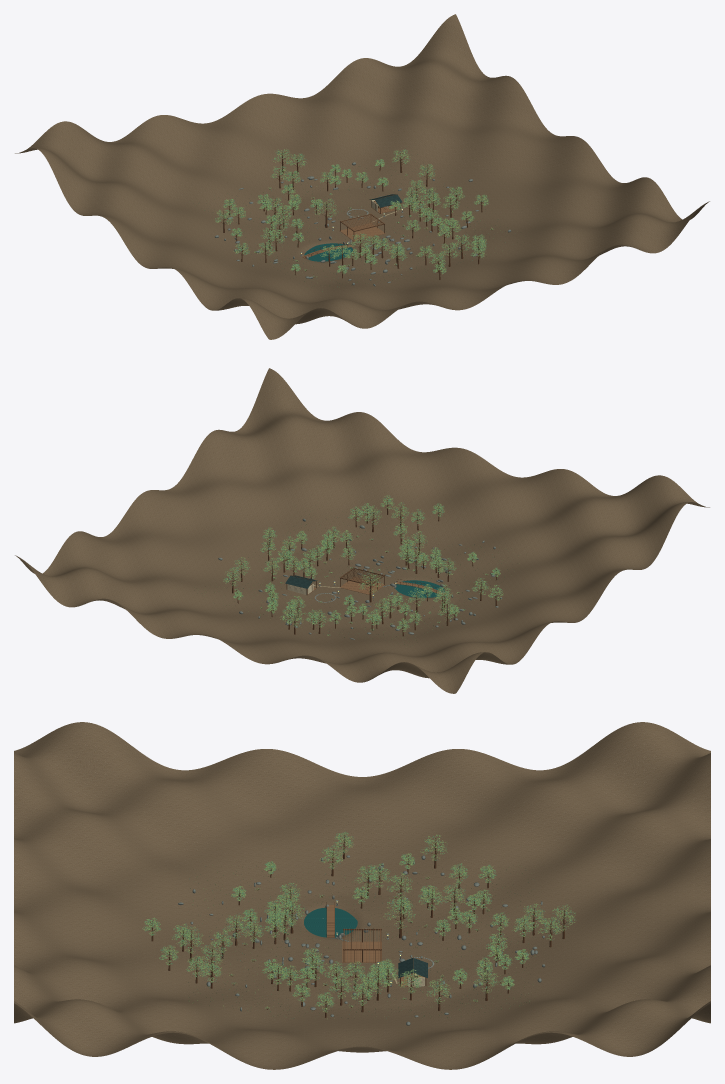
Rendered from garden-high.glb.
The picture shows the model from 3 angles, top to bottom: view 1: azimuth 30°, elevation 25°; view 2: azimuth 150°, elevation 25°; view 3: azimuth 270°, elevation 25°; orthographic projection. The views are drawn at different scales.
Parts seen in each view (by area): view 1: Garden_Forest_Floor, Garden_Foliage_3, Garden_Foliage_2, Garden_Foliage_1, Garden_Foliage_0, Garden_Weathered_Cedar, Garden_Granite, Garden_Oiled_Timber, Garden_Pond_Water; view 2: Garden_Forest_Floor, Garden_Foliage_0, Garden_Foliage_1, Garden_Foliage_2, Garden_Foliage_3, Garden_Weathered_Cedar, Garden_Granite, Garden_Oiled_Timber, Garden_Pond_Water; view 3: Garden_Forest_Floor, Garden_Foliage_1, Garden_Foliage_0, Garden_Foliage_2, Garden_Foliage_3, Garden_Weathered_Cedar, Garden_Granite, Garden_Oiled_Timber, Garden_Pond_Water.
Boxes of the visible parts, box(x1,y1,x2,y2) form: Garden_Forest_Floor: box(15, 14, 709, 339); Garden_Foliage_3: box(215, 149, 505, 286); Garden_Foliage_2: box(215, 149, 500, 285); Garden_Foliage_1: box(215, 149, 507, 274); Garden_Foliage_0: box(204, 150, 495, 291); Garden_Weathered_Cedar: box(221, 152, 492, 279); Garden_Granite: box(215, 162, 511, 286); Garden_Oiled_Timber: box(302, 201, 398, 258); Garden_Pond_Water: box(304, 243, 352, 261); Garden_Forest_Floor: box(15, 368, 709, 693); Garden_Foliage_0: box(223, 496, 502, 638); Garden_Foliage_1: box(223, 495, 504, 638); Garden_Foliage_2: box(204, 496, 501, 636); Garden_Foliage_3: box(225, 496, 502, 635); Garden_Weathered_Cedar: box(228, 498, 498, 636); Garden_Granite: box(218, 518, 502, 639); Garden_Oiled_Timber: box(308, 577, 444, 595); Garden_Pond_Water: box(395, 580, 444, 597); Garden_Forest_Floor: box(14, 722, 710, 1069); Garden_Foliage_1: box(143, 833, 574, 1017); Garden_Foliage_0: box(143, 832, 576, 1018); Garden_Foliage_2: box(142, 832, 574, 1018); Garden_Foliage_3: box(142, 831, 575, 1018); Garden_Weathered_Cedar: box(148, 835, 568, 1017); Garden_Granite: box(178, 855, 545, 1025); Garden_Oiled_Timber: box(326, 905, 424, 986); Garden_Pond_Water: box(304, 907, 357, 937).
Size of the model in its own units: 220 by 35.63 by 220.
Materials: 15 (9 with a texture image).
